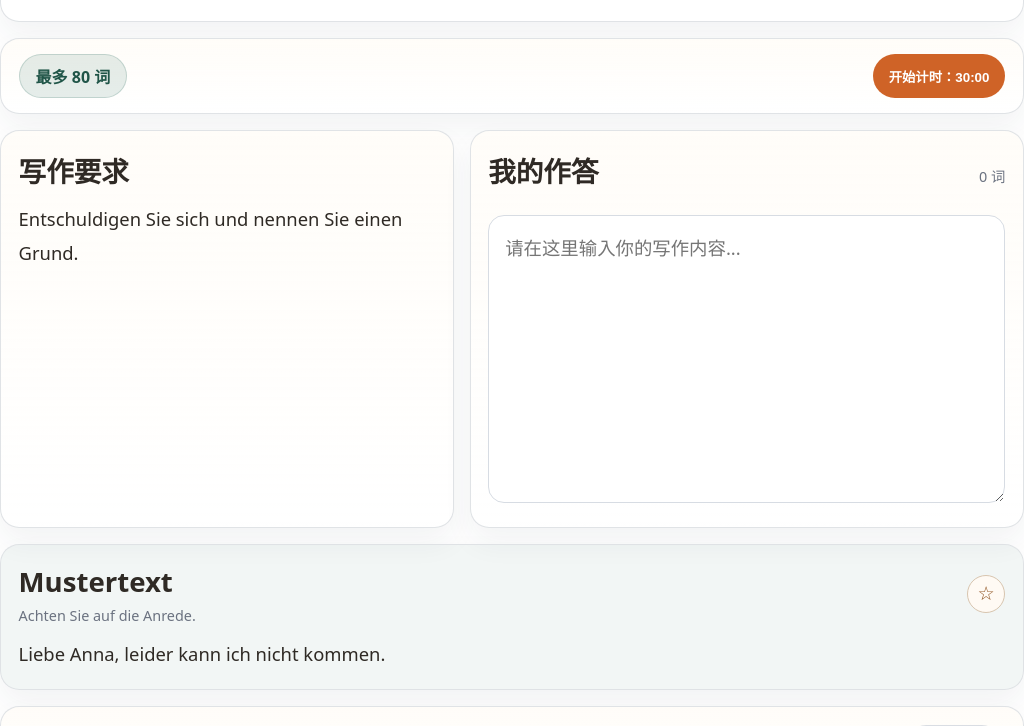
Test case: ExamPreparationWritingDetailPage text annotations › accepts draft input, preserves marks after Prüfen, and clears only this scope on Wiederholen
(page scrolled)
Type "Liebe Anna" into the text box at (747, 359), box [488,215,1005,503]
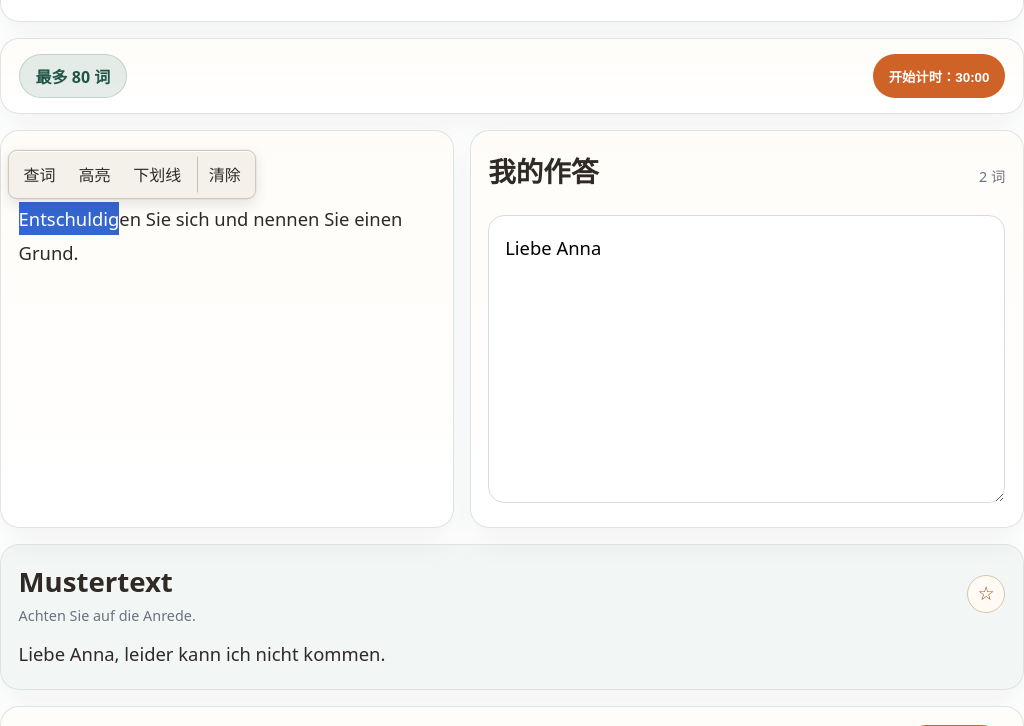
Click the button "高亮" at (94, 174), box [69,155,120,193]
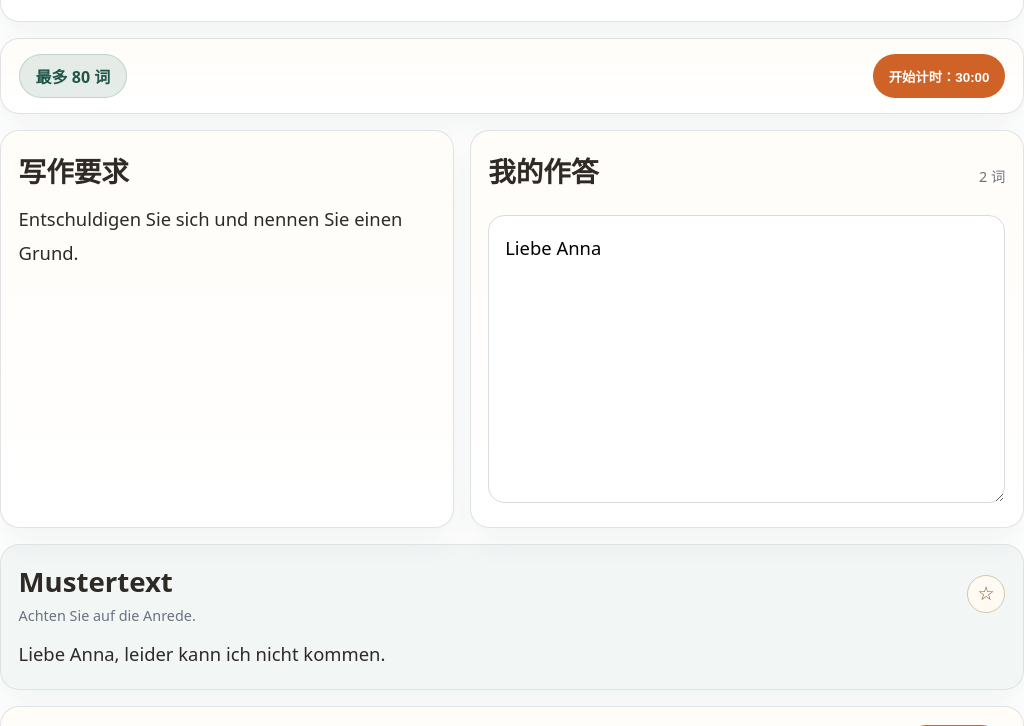
Click the button "开始计时：30:00" at (939, 76), box [873,54,1005,98]
Wait 1000 ms
(page scrolled)
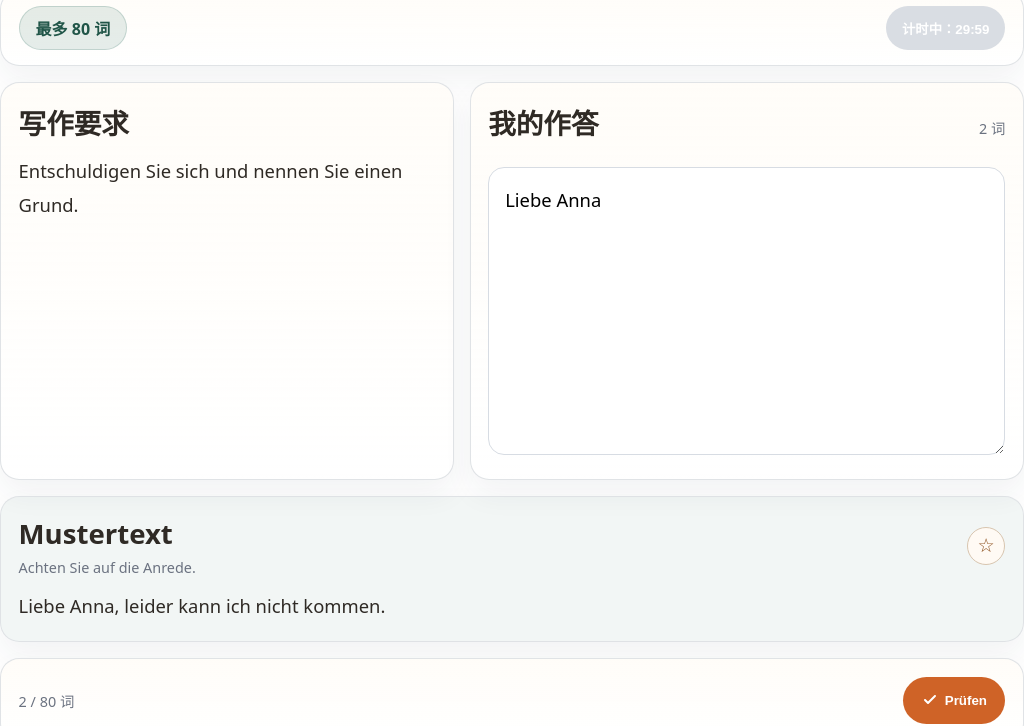
Now the button "计时中：29:59" is shown, box [886,6,1005,50]
Click the button "Prüfen" at (954, 700), box [903,677,1005,724]
Wait 5000 ms
(page scrolled)
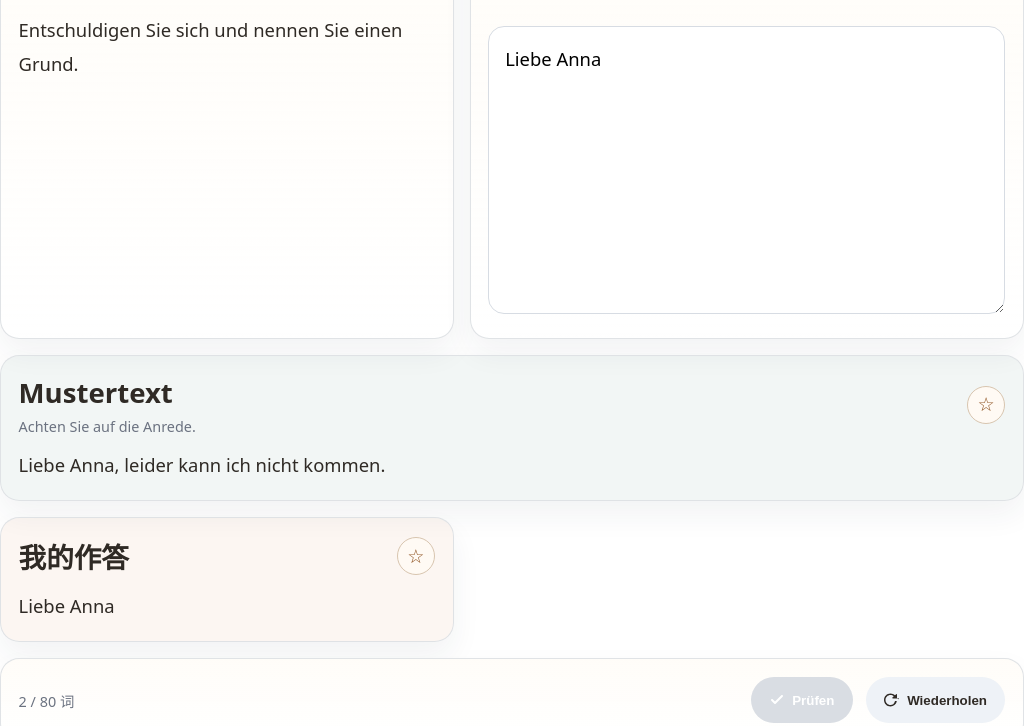
Click the button "Wiederholen" at (936, 700), box [866,677,1005,723]
(page scrolled)
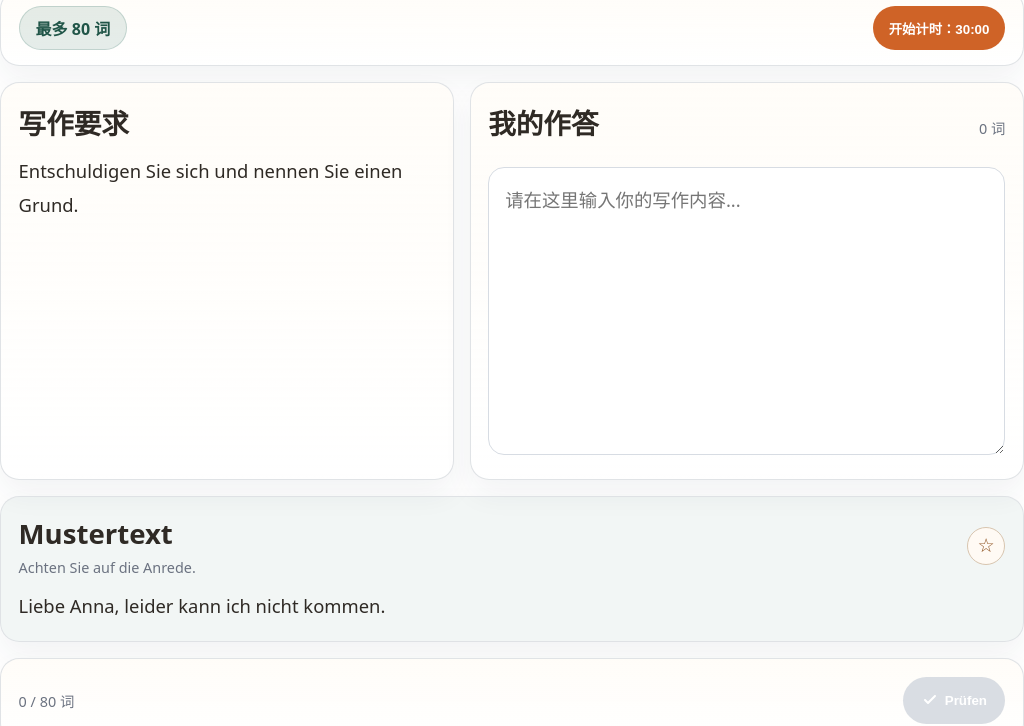
Now the text box is empty, box [488,167,1005,455]
Now the button "开始计时：30:00" is shown
Click the button "开始计时：30:00" at (939, 28), box [873,6,1005,50]
Wait 1000 ms
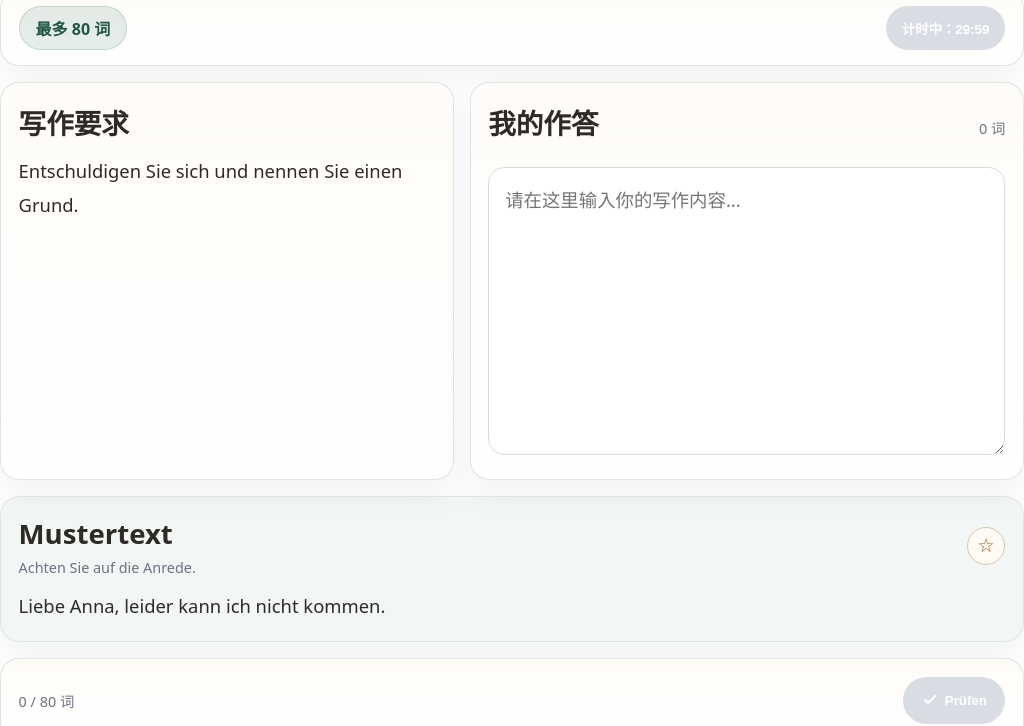
Now the button "计时中：29:59" is shown, box [886,6,1005,50]
